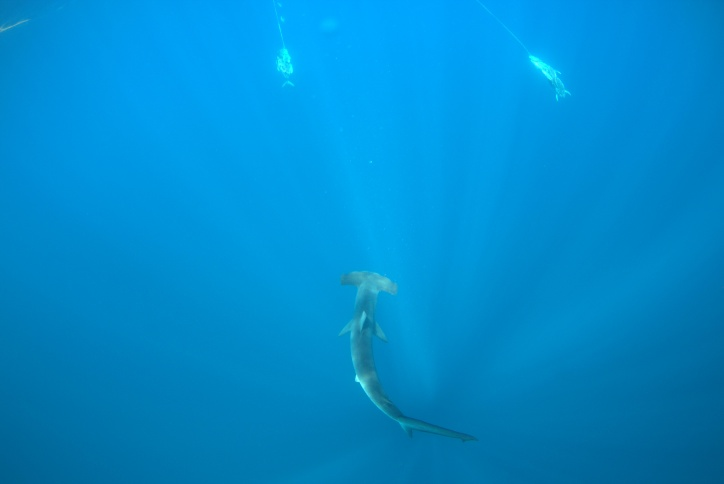Hammer: (314, 238, 515, 466)
